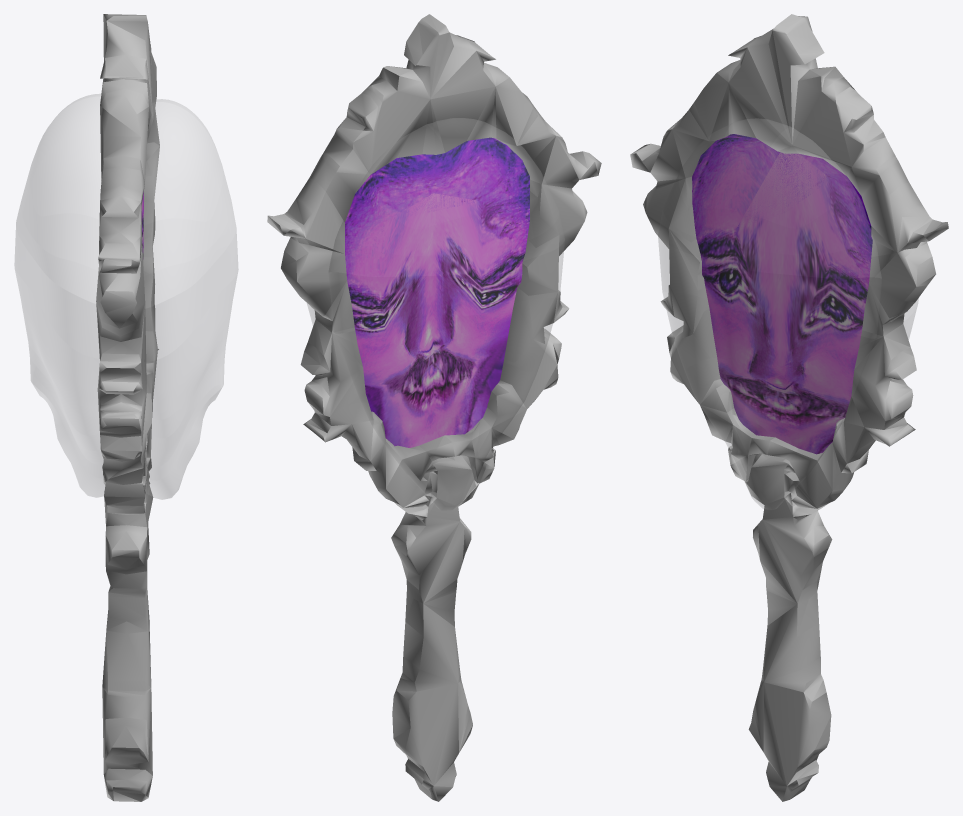
File: gurr.glb
The picture shows the model from 3 angles, left to right: view 1: azimuth 30°, elevation 25°; view 2: azimuth 150°, elevation 25°; view 3: azimuth 270°, elevation 25°; orthographic projection.
Bounding box in the file's own units: 2.59 × 9.76 × 3.64.
Materials: 4 (1 with a texture image).
